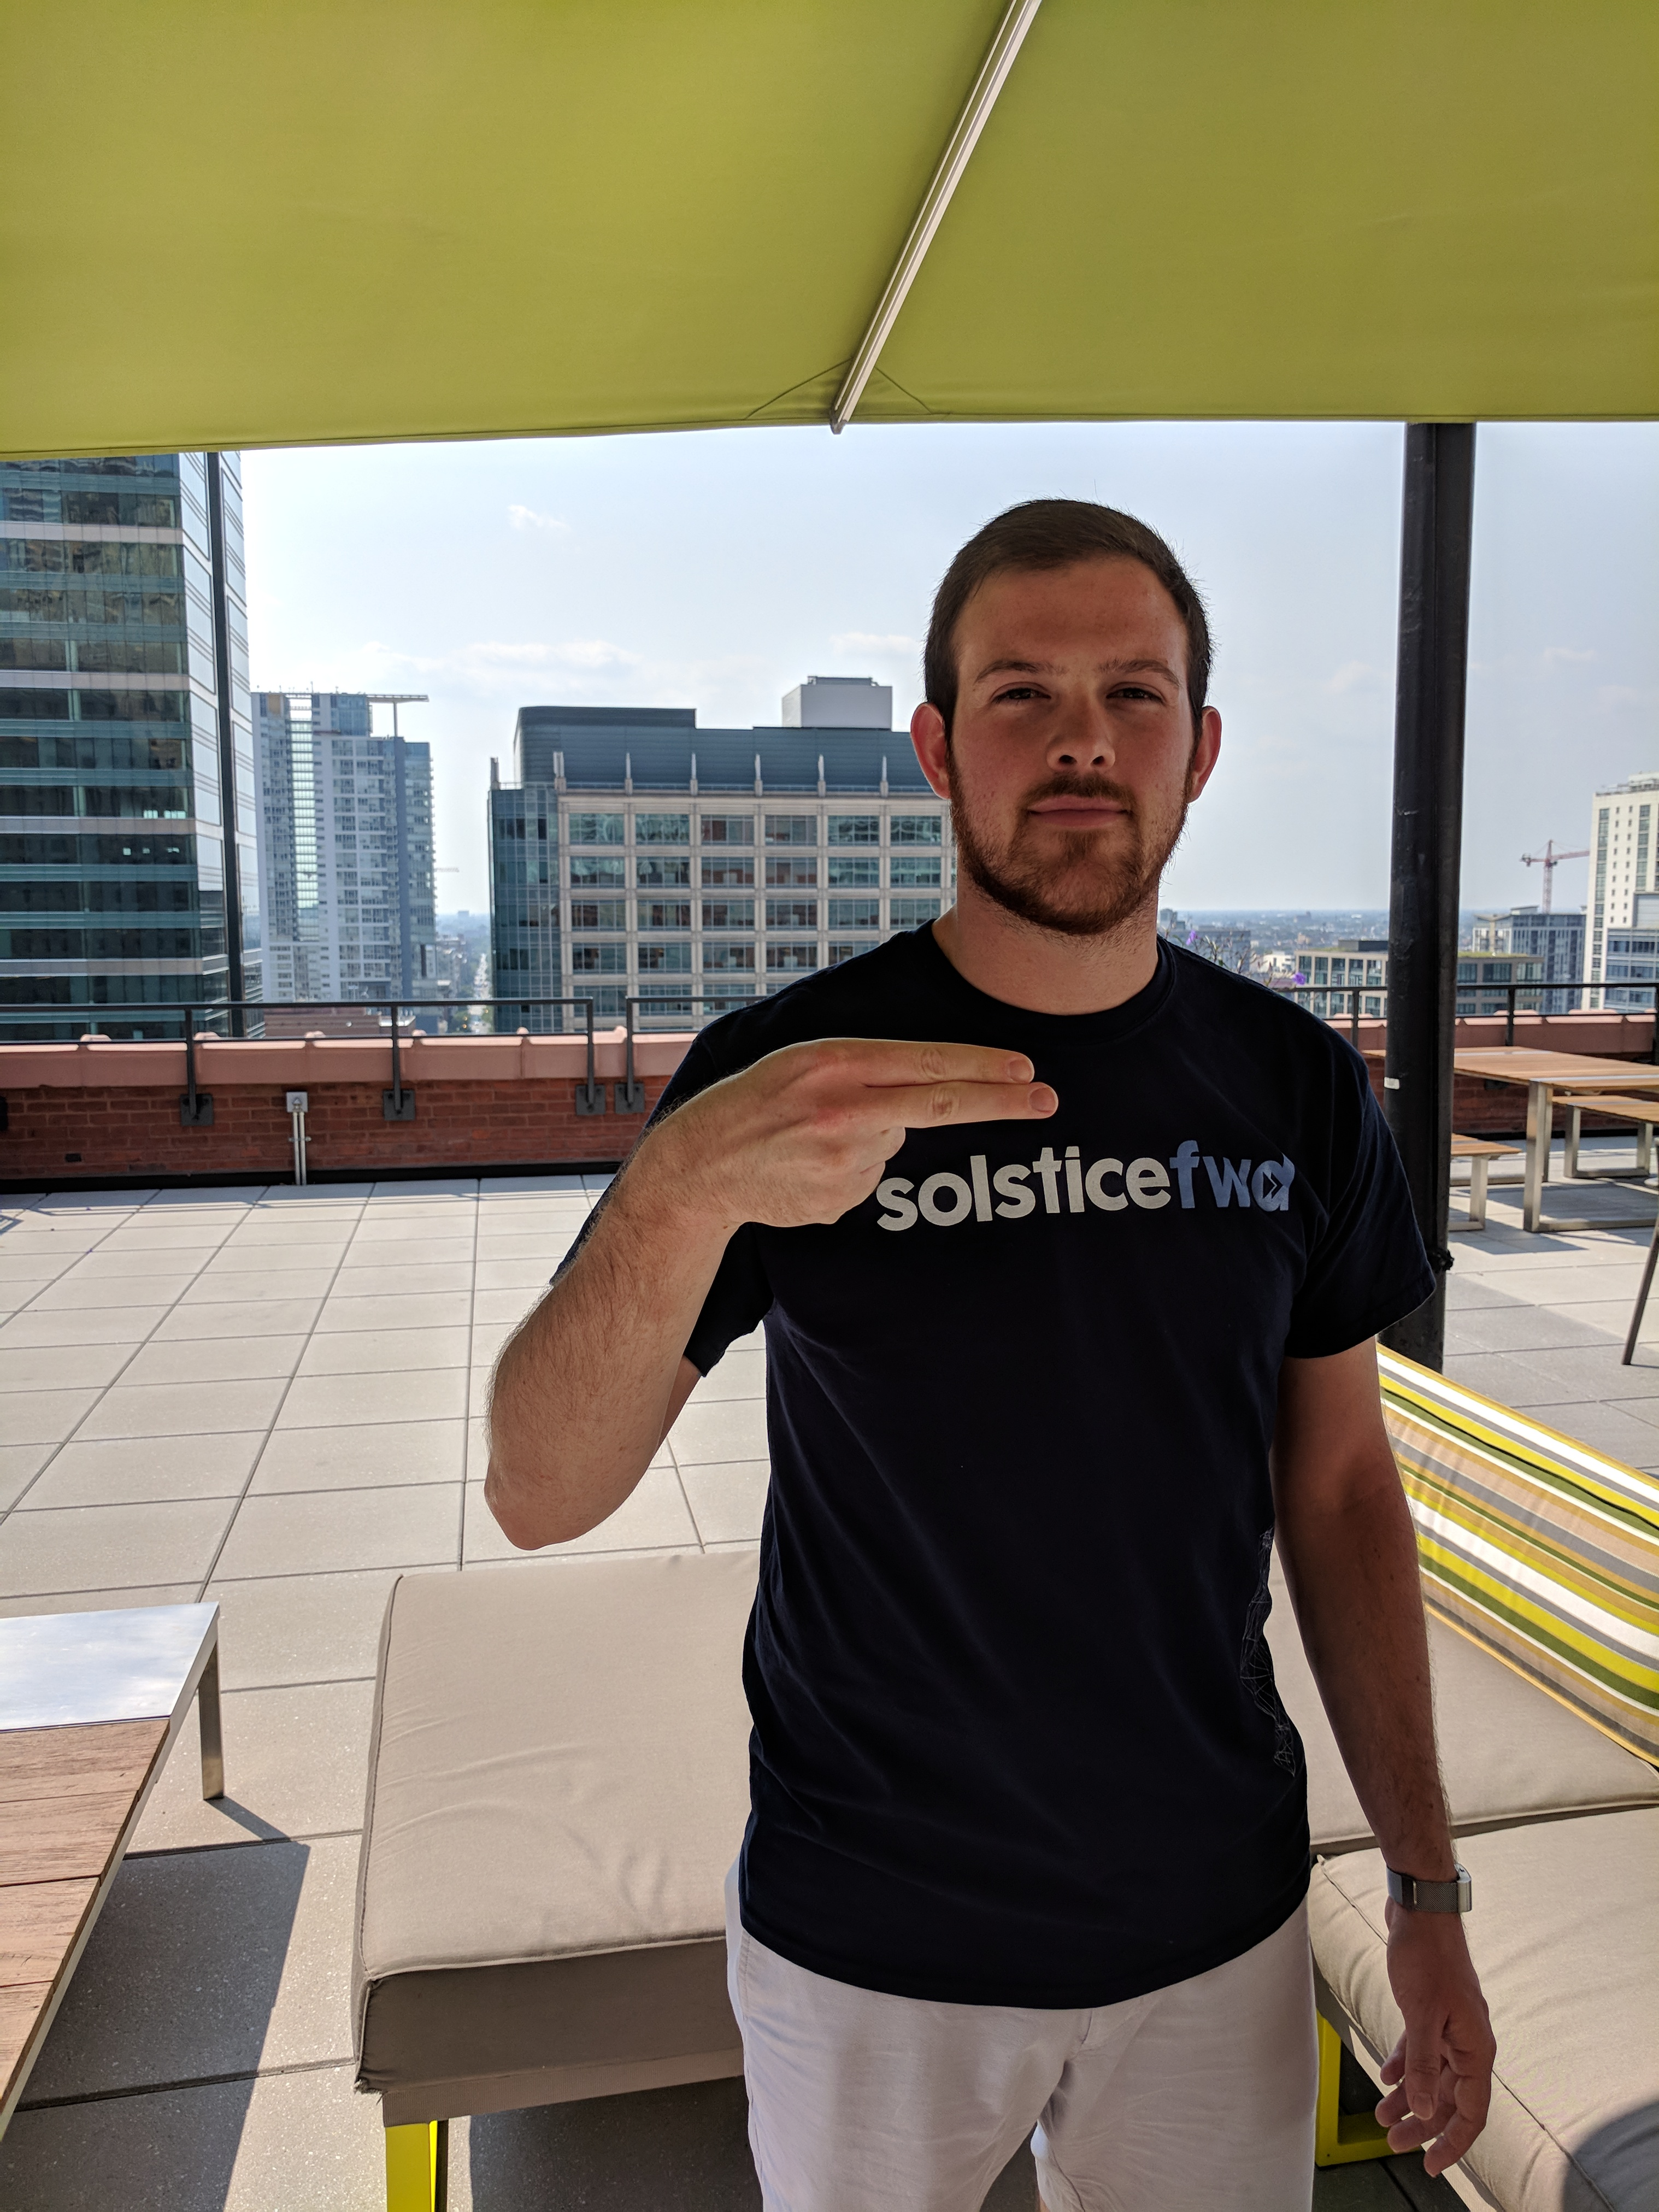h: (702, 1033, 1070, 1268)
